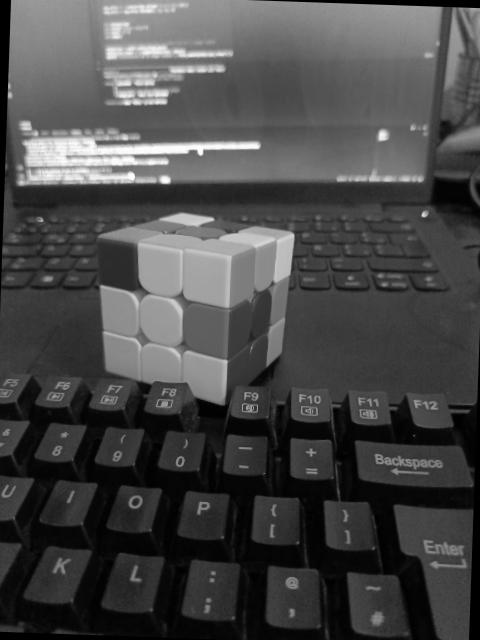rubik: (90, 210, 296, 408)
